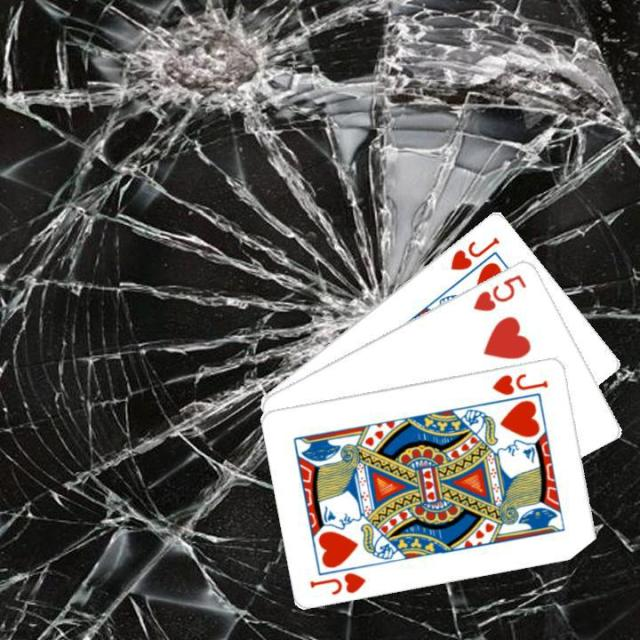5H: (469, 269, 529, 313)
JH: (446, 232, 502, 272), (306, 568, 368, 596), (489, 369, 550, 396)
